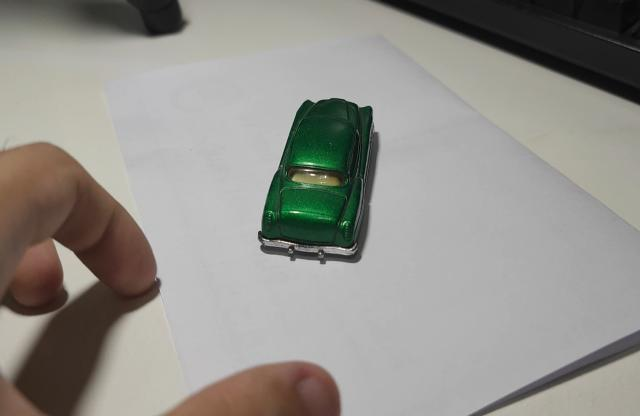06_MASERATI: (257, 98, 379, 264)
